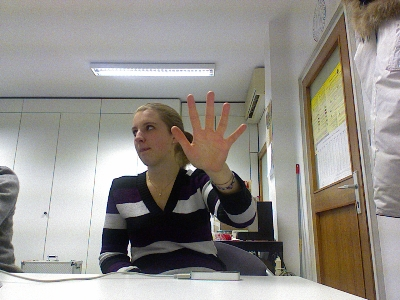布: (171, 90, 246, 173)
